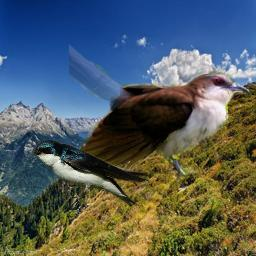Cuckoo: (69, 2, 252, 182)
Swallow: (32, 139, 154, 211)
